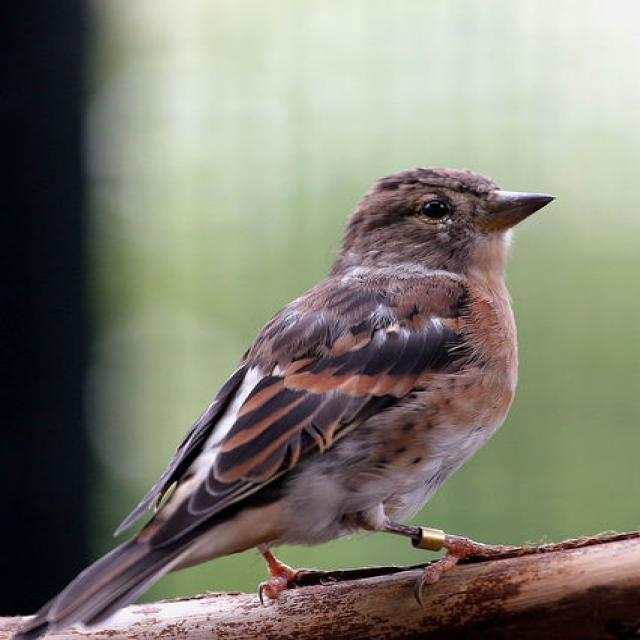bird: (14, 165, 566, 638)
